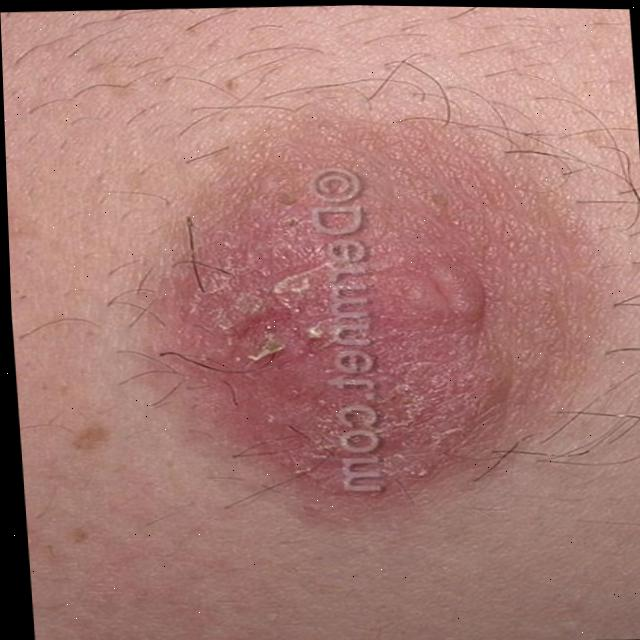Eczema: (183, 202, 314, 394)
